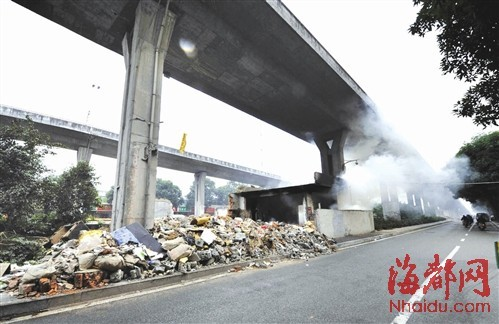smoke: (358, 114, 463, 214)
